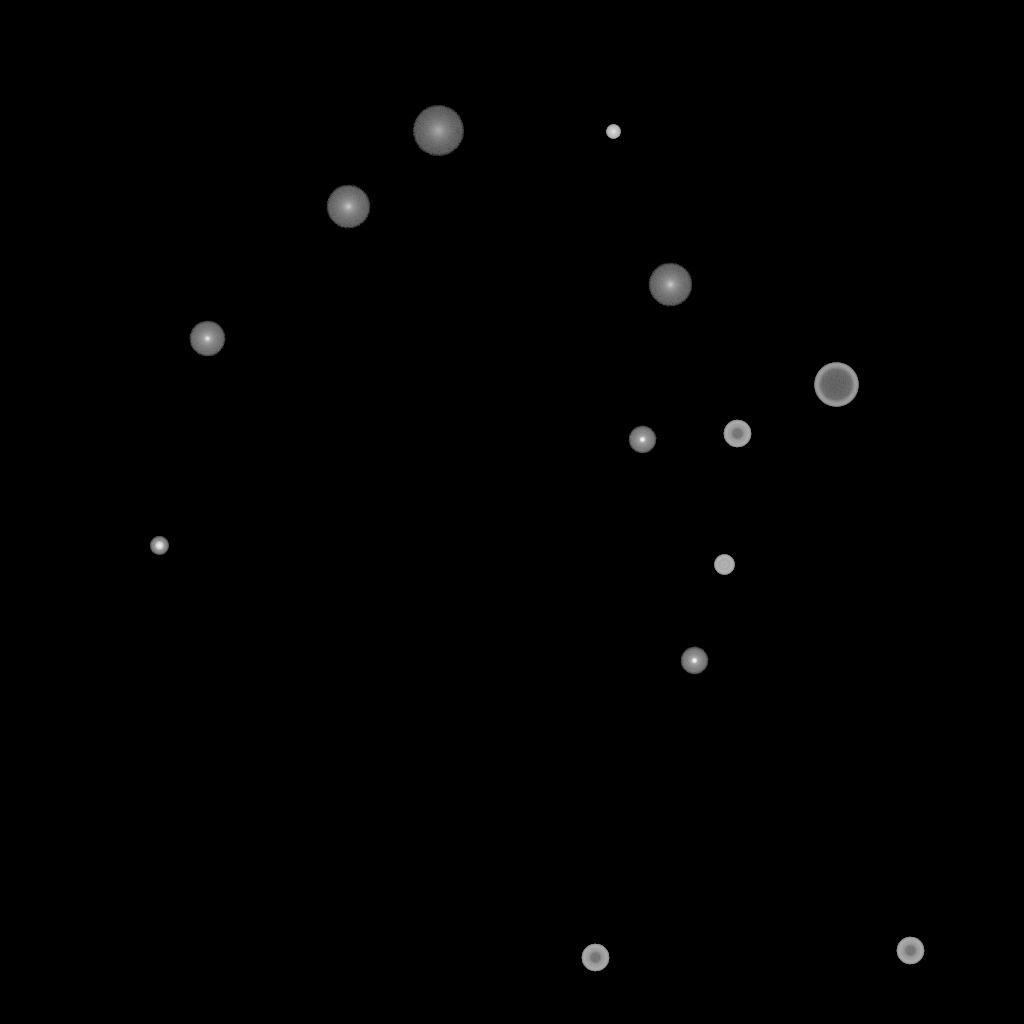depth:-10: (680, 647, 708, 675), (628, 426, 656, 454)
depth:-20: (150, 537, 168, 555)
depth:-30: (606, 125, 620, 139)
depth:-40: (714, 555, 734, 575)
depth:-50: (723, 420, 751, 448), (896, 937, 924, 965), (581, 944, 609, 972)
depth:-70: (814, 363, 858, 407)
depth:0: (189, 321, 225, 357)
depth:10: (326, 185, 370, 229), (648, 263, 692, 307)
depth:20: (412, 106, 464, 156)
